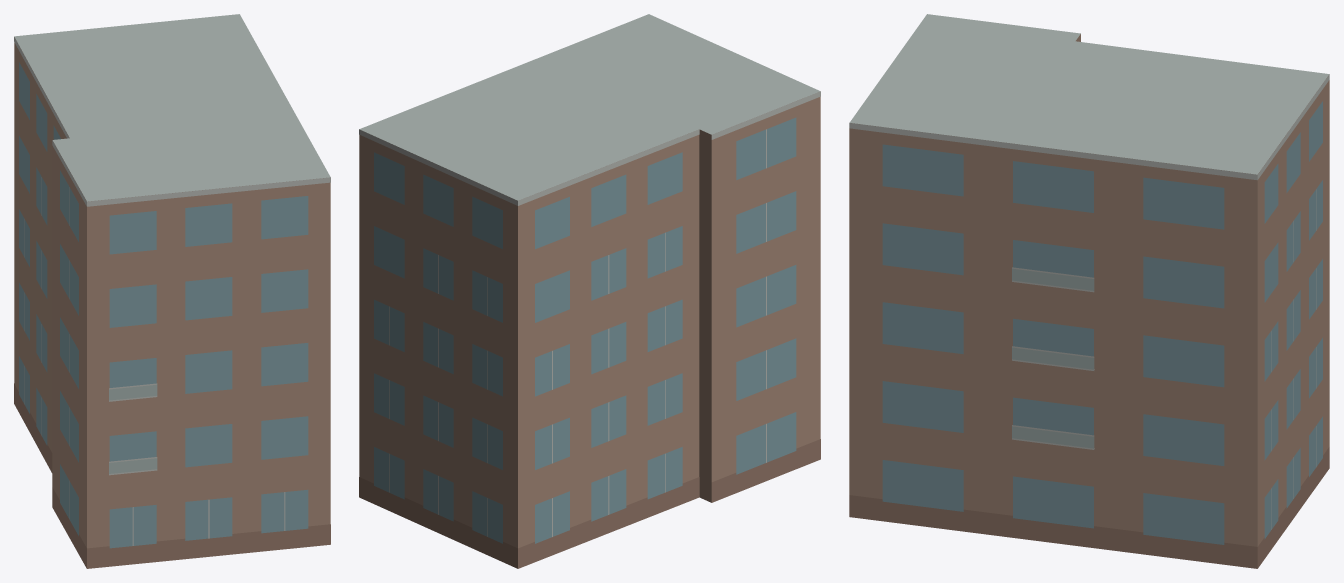
File: survey-upis-32619786.glb
3 renders of one model, left to right at view 1: azimuth 30°, elevation 25°; view 2: azimuth 150°, elevation 25°; view 3: azimuth 270°, elevation 25°, orthographic. The views are drawn at different scales.
Parts seen in each view (by area): view 1: survey-upis-32619786.tmp; view 2: survey-upis-32619786.tmp; view 3: survey-upis-32619786.tmp.
Part boxes in pixels (<box>): survey-upis-32619786.tmp: <box>14,14,330,568</box>; survey-upis-32619786.tmp: <box>359,14,820,568</box>; survey-upis-32619786.tmp: <box>849,14,1329,568</box>.
Bounding box in the file's own units: 14.95 × 17.1 × 18.88.
